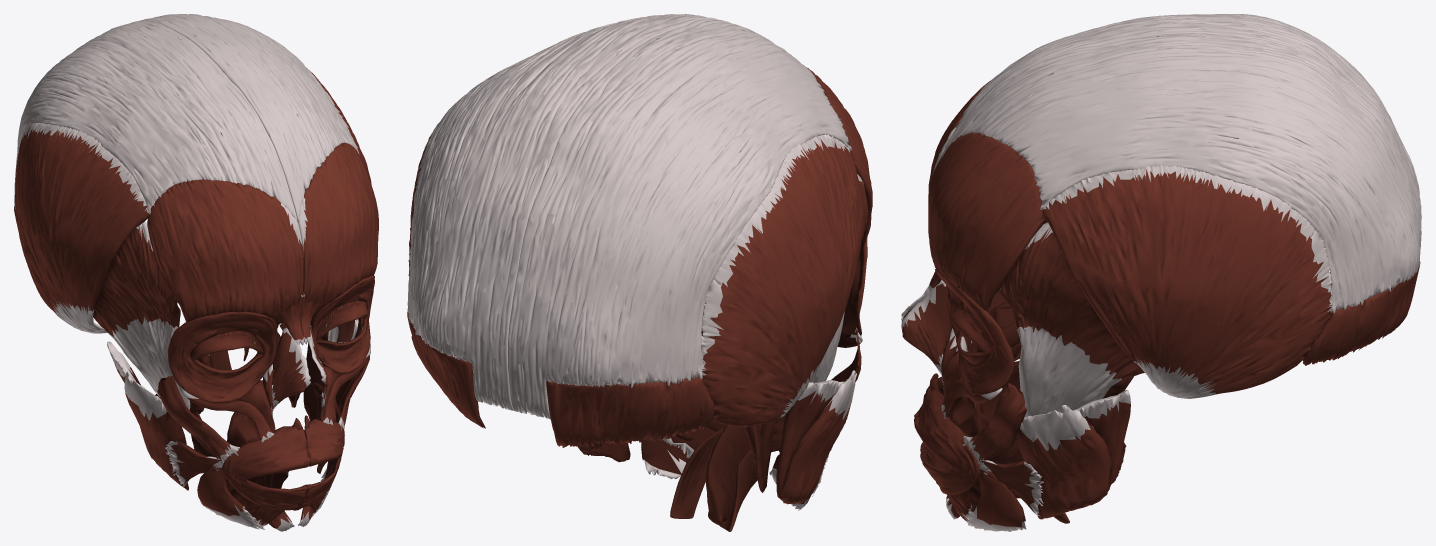
Rendered from muscular-vertex.glb.
3 views of the same model, side by side, from view 1: azimuth 30°, elevation 25°; view 2: azimuth 150°, elevation 25°; view 3: azimuth 270°, elevation 25° (orthographic). The views are drawn at different scales.
Visible parts, largest first — view 1: Epicranial aponeurosis.r.001, Temporoparietalis muscle.r.001, Frontalis muscle.r.001, Epicranial aponeurosis.l.001, Frontalis muscle.l.001, Temporalis muscle.r.001, Orbital part of orbicularis oculi.r.001, Orbicularis oris muscle.r.001, Superficial part of masseter.r.001, Orbital part of orbicularis oculi.l.001, Orbicularis oris muscle.l.001, Zygomaticus major muscle.r.001 (+16 smaller); view 2: Epicranial aponeurosis.r.001, Epicranial aponeurosis.l.001, Temporoparietalis muscle.r.001, Occipitalis muscle.r.001, Superficial part of masseter.r.001, Genioglossus muscle.r.001, Occipitalis muscle.l.001, Deep part of masseter.r.001, Hyoglossus muscle.l.001, Frontalis muscle.r.001, Depressor anguli oris.l.001, Orbital part of orbicularis oculi.r.001 (+4 smaller); view 3: Epicranial aponeurosis.l.001, Temporoparietalis muscle.l.001, Frontalis muscle.l.001, Temporalis muscle.l.001, Epicranial aponeurosis.r.001, Superficial part of masseter.l.001, Occipitalis muscle.l.001, Orbicularis oris muscle.l.001, Orbital part of orbicularis oculi.l.001, Nasalis muscle.l.001, Zygomaticus major muscle.l.001, Depressor anguli oris.l.001 (+7 smaller).
Boxes of the visible parts, bbox=[...] form: Epicranial aponeurosis.r.001: bbox=[14, 20, 297, 221]; Temporoparietalis muscle.r.001: bbox=[15, 122, 148, 333]; Frontalis muscle.r.001: bbox=[147, 179, 303, 324]; Epicranial aponeurosis.l.001: bbox=[139, 14, 359, 221]; Frontalis muscle.l.001: bbox=[297, 142, 378, 316]; Temporalis muscle.r.001: bbox=[93, 221, 190, 410]; Orbital part of orbicularis oculi.r.001: bbox=[167, 311, 277, 403]; Orbicularis oris muscle.r.001: bbox=[222, 426, 310, 510]; Superficial part of masseter.r.001: bbox=[124, 372, 188, 490]; Orbital part of orbicularis oculi.l.001: bbox=[310, 275, 374, 373]; Orbicularis oris muscle.l.001: bbox=[297, 419, 344, 510]; Zygomaticus major muscle.r.001: bbox=[157, 376, 239, 465]; Epicranial aponeurosis.r.001: bbox=[508, 19, 852, 419]; Epicranial aponeurosis.l.001: bbox=[407, 14, 717, 410]; Temporoparietalis muscle.r.001: bbox=[701, 134, 863, 426]; Occipitalis muscle.r.001: bbox=[546, 376, 714, 447]; Superficial part of masseter.r.001: bbox=[779, 370, 856, 504]; Genioglossus muscle.r.001: bbox=[706, 424, 757, 525]; Occipitalis muscle.l.001: bbox=[407, 309, 485, 428]; Deep part of masseter.r.001: bbox=[776, 380, 843, 504]; Hyoglossus muscle.l.001: bbox=[670, 428, 723, 518]; Frontalis muscle.r.001: bbox=[806, 67, 872, 245]; Depressor anguli oris.l.001: bbox=[641, 438, 705, 482]; Orbital part of orbicularis oculi.r.001: bbox=[841, 236, 867, 335]; Epicranial aponeurosis.l.001: bbox=[944, 33, 1421, 313]; Temporoparietalis muscle.l.001: bbox=[1043, 165, 1332, 398]; Frontalis muscle.l.001: bbox=[928, 132, 1046, 311]; Temporalis muscle.l.001: bbox=[998, 222, 1144, 417]; Epicranial aponeurosis.r.001: bbox=[944, 14, 1421, 221]; Superficial part of masseter.l.001: bbox=[1015, 405, 1111, 519]; Occipitalis muscle.l.001: bbox=[1302, 261, 1420, 365]; Orbicularis oris muscle.l.001: bbox=[914, 388, 980, 494]; Orbital part of orbicularis oculi.l.001: bbox=[935, 269, 1014, 395]; Nasalis muscle.l.001: bbox=[901, 280, 952, 375]; Zygomaticus major muscle.l.001: bbox=[962, 382, 1026, 467]; Depressor anguli oris.l.001: bbox=[966, 467, 1026, 531].
Size of the model in its own units: 0.1608 by 0.2096 by 0.2053.
